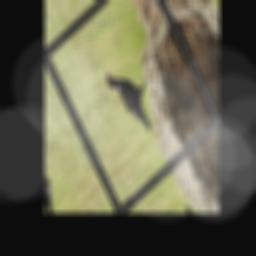Crow: (103, 49, 165, 146)
